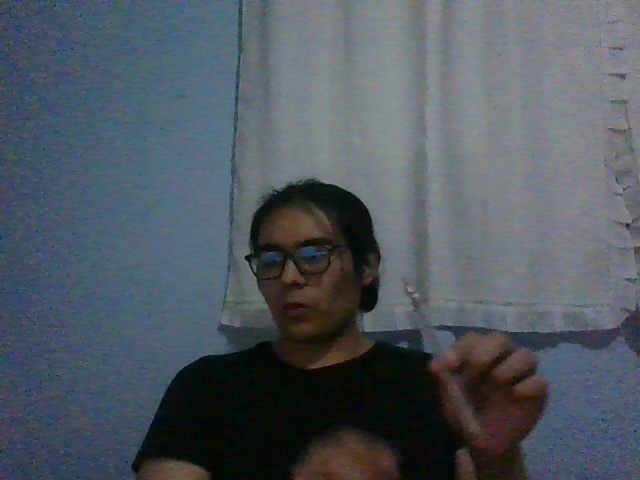pluma: (403, 278, 484, 449)
